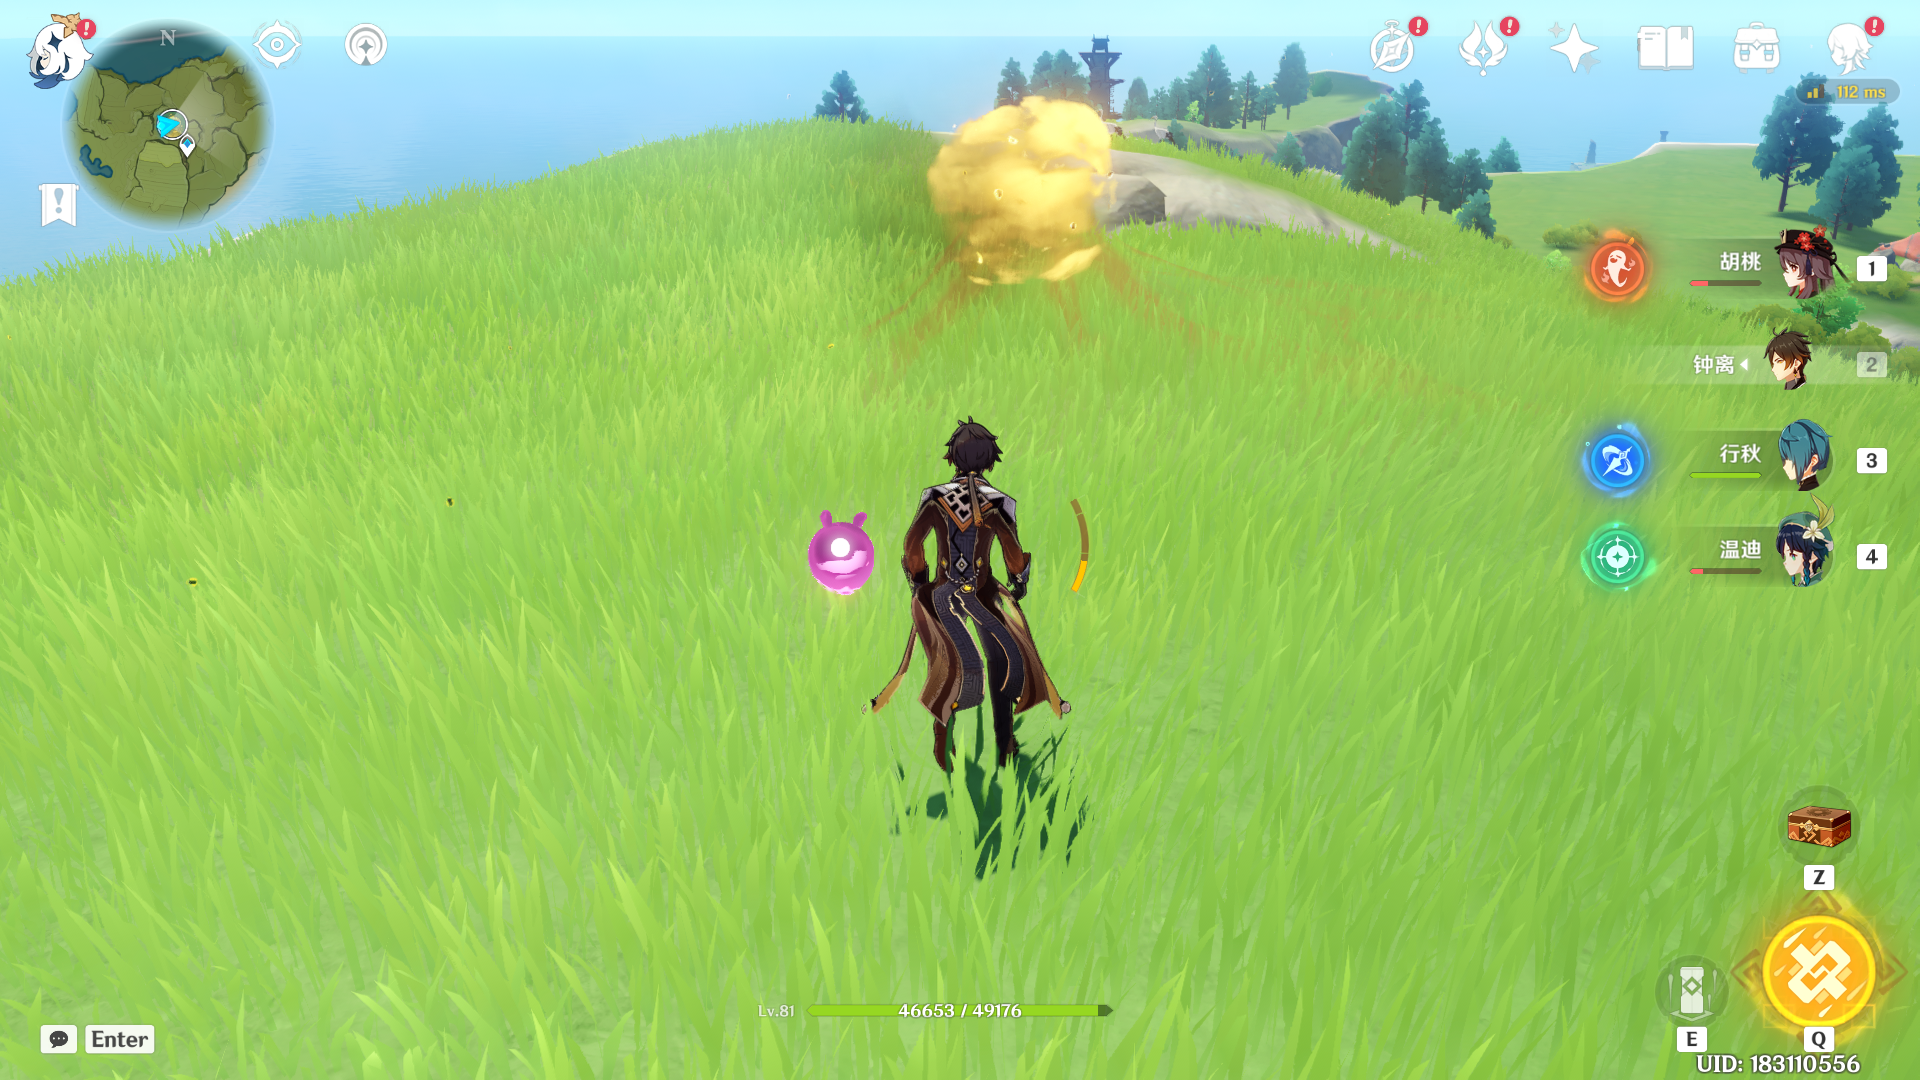character: (851, 385, 1118, 828)
